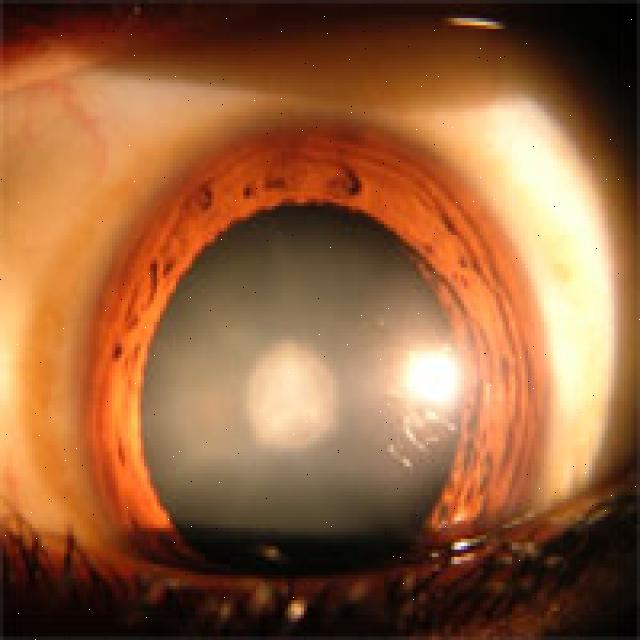Cataract: (80, 133, 546, 636)
